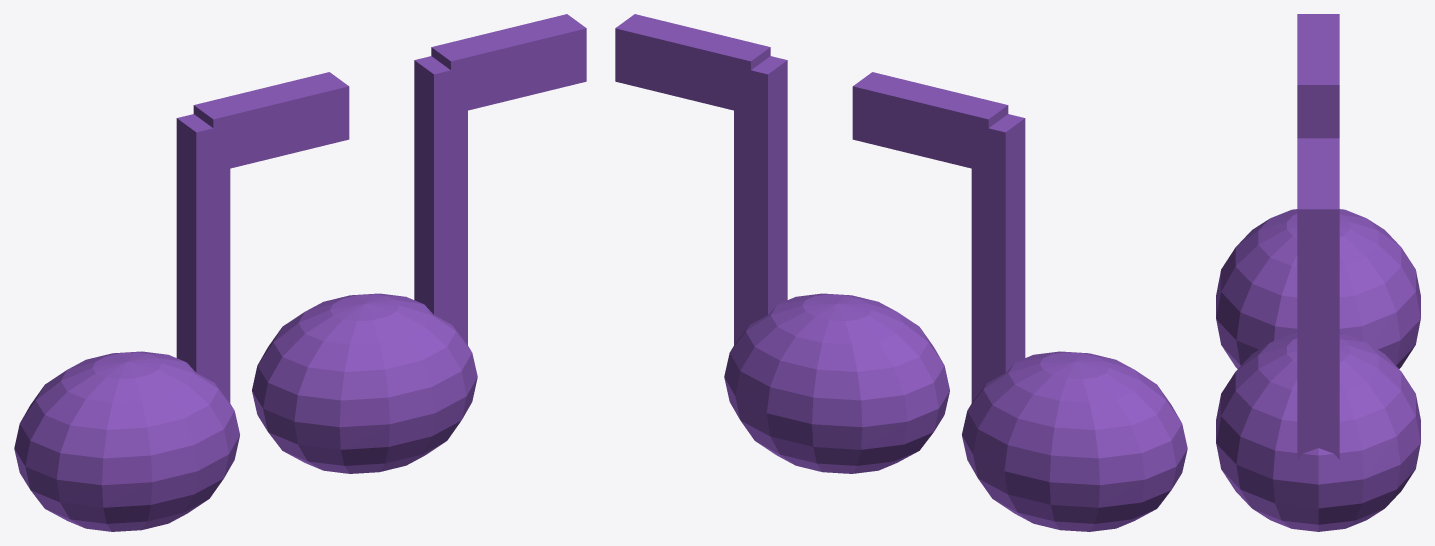
Rendered from Item_Lullaby.obj.
3 renders of one model, left to right at view 1: azimuth 30°, elevation 25°; view 2: azimuth 150°, elevation 25°; view 3: azimuth 270°, elevation 25°, orthographic. The views are drawn at different scales.
Visible parts, largest first — view 1: Item_Lullaby; view 2: Item_Lullaby; view 3: Item_Lullaby.
Boxes of the visible parts, x1,y1,x2,y2 form: Item_Lullaby: [14, 14, 586, 531]; Item_Lullaby: [615, 14, 1187, 531]; Item_Lullaby: [1216, 14, 1420, 531].
Size of the model in its own units: 0.65 by 0.44 by 0.195.
